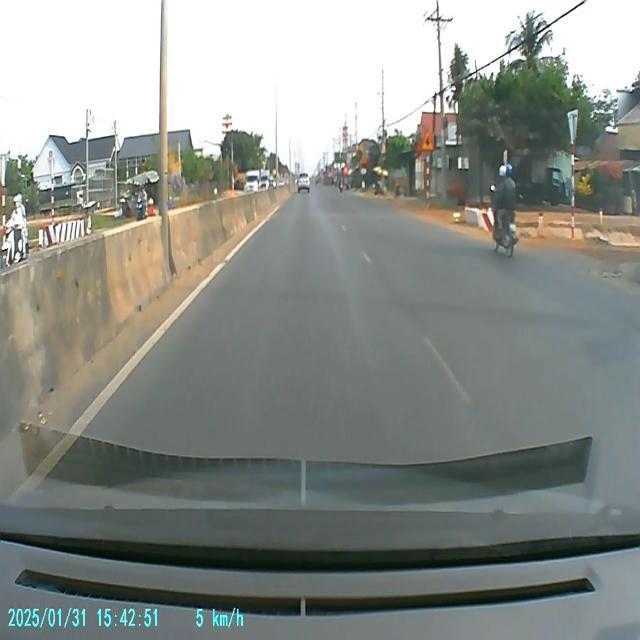207-giao-nhau-voi-duong-khong-uu-tien: (421, 128, 435, 152)
